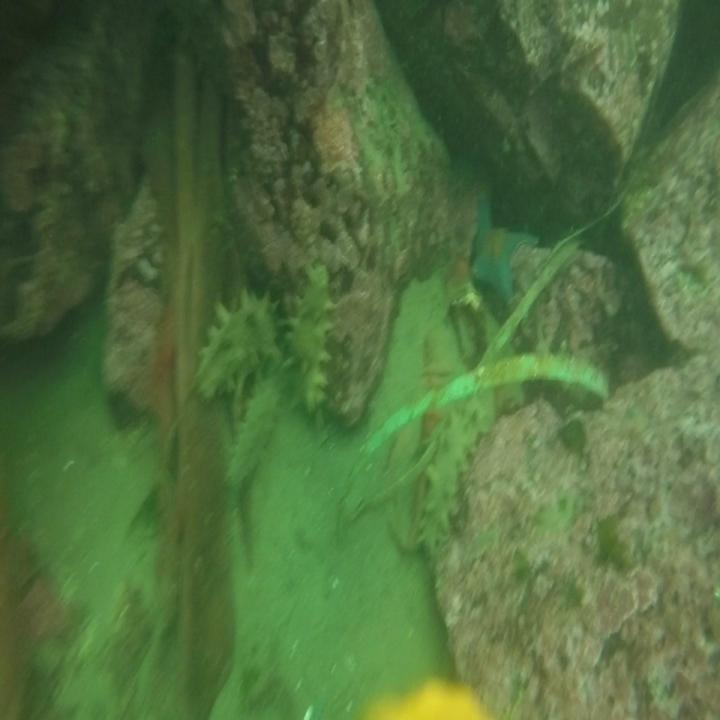holothurian: (190, 292, 283, 406), (415, 402, 480, 553), (286, 260, 336, 431), (220, 369, 285, 487), (172, 0, 234, 103)
starfish: (472, 182, 540, 309)
